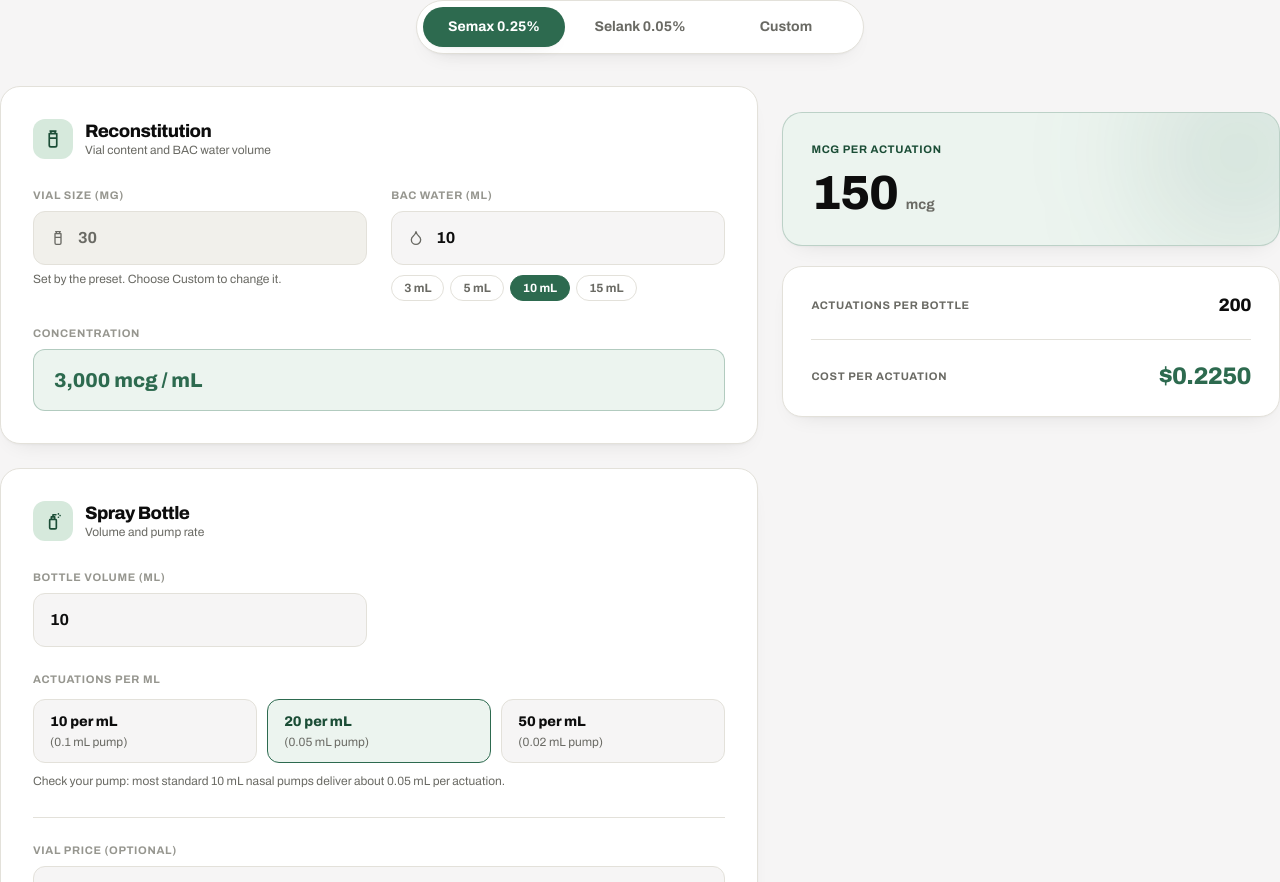
it: IntranasalCalculator › locks the vial size for named peptides and unlocks it for Custom
Click the button "Custom" at x=786, y=27, box [715,7,857,47]
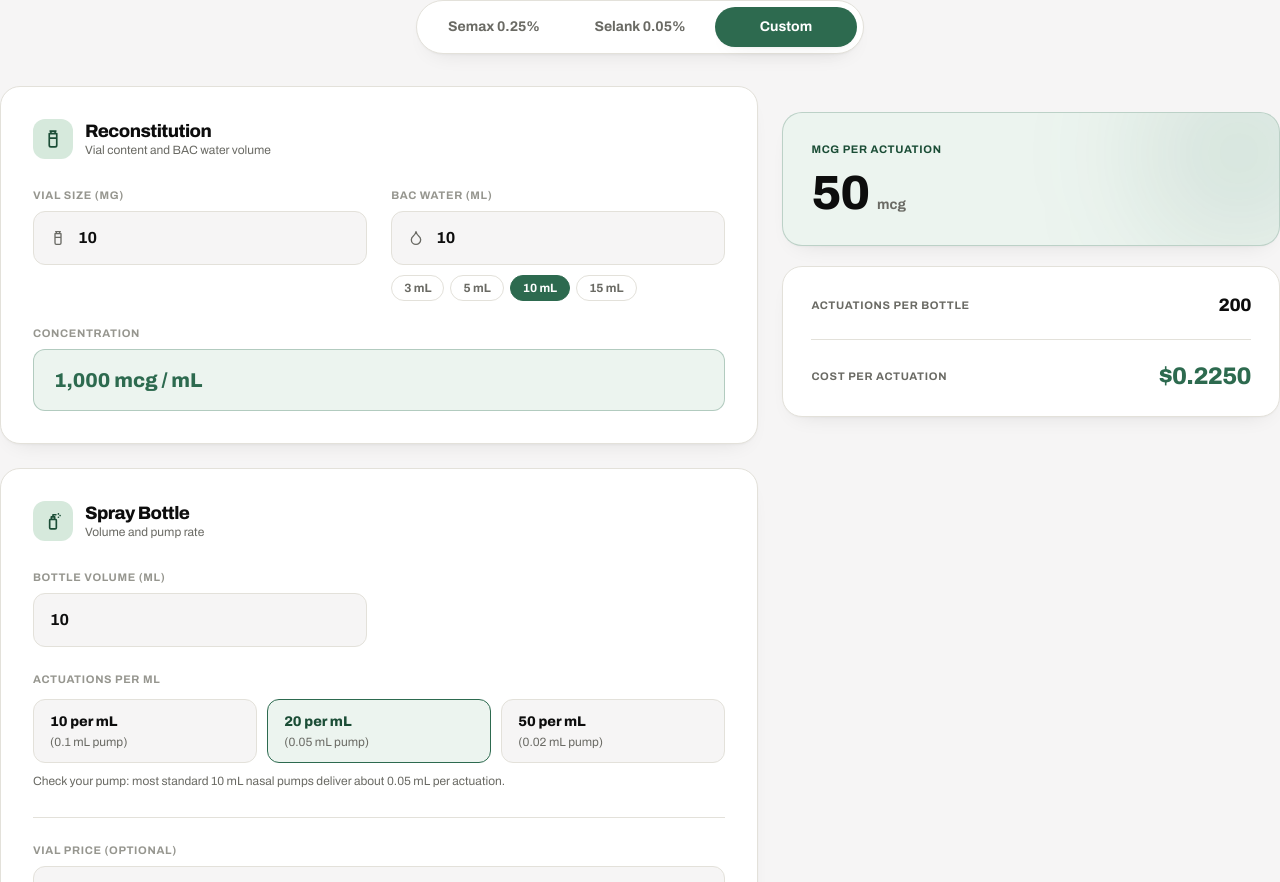
Replace the text in the number field labelled "Vial size (mg)" with "20" at x=214, y=238, box [78,226,350,250]
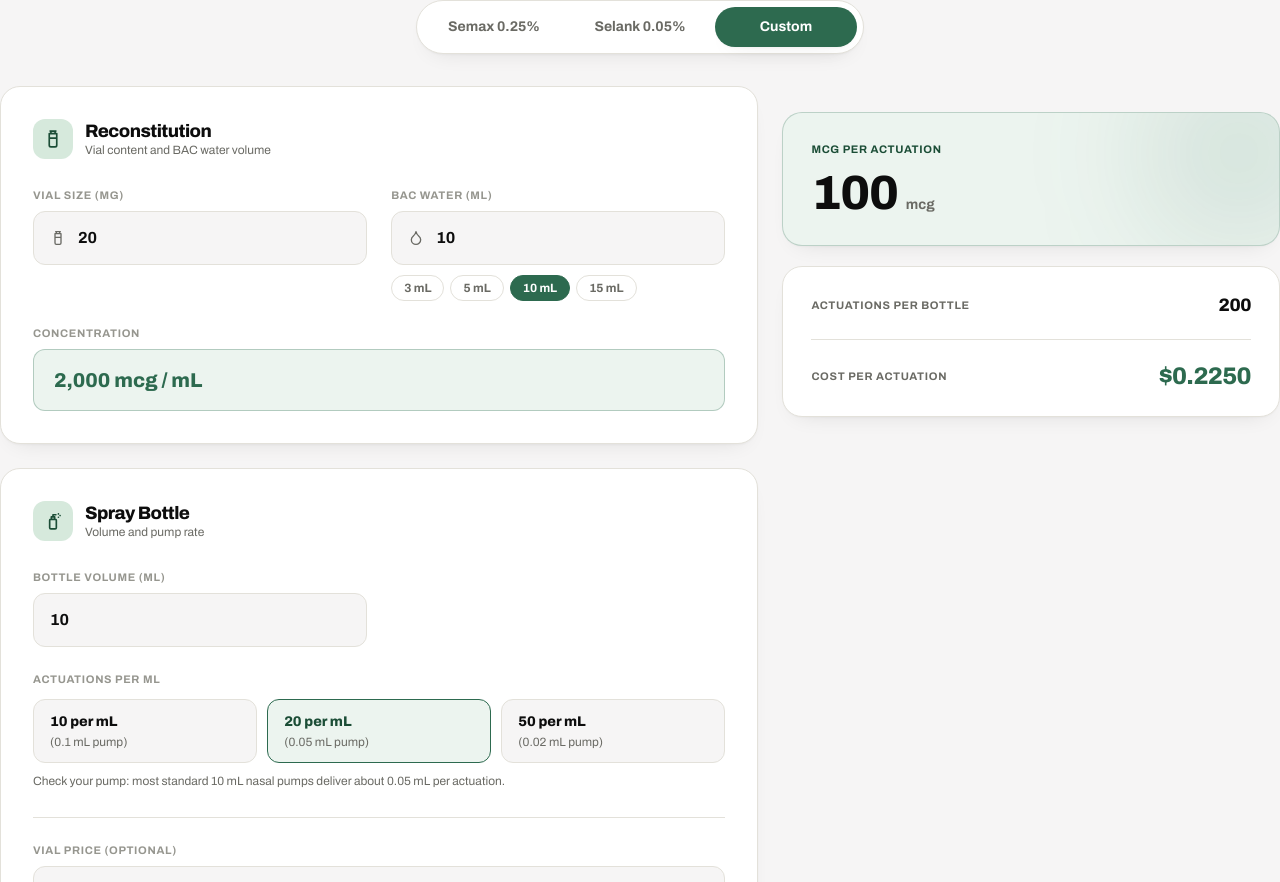
Expected: the text "2,000 mcg / mL" is shown, [33,349,725,411]
